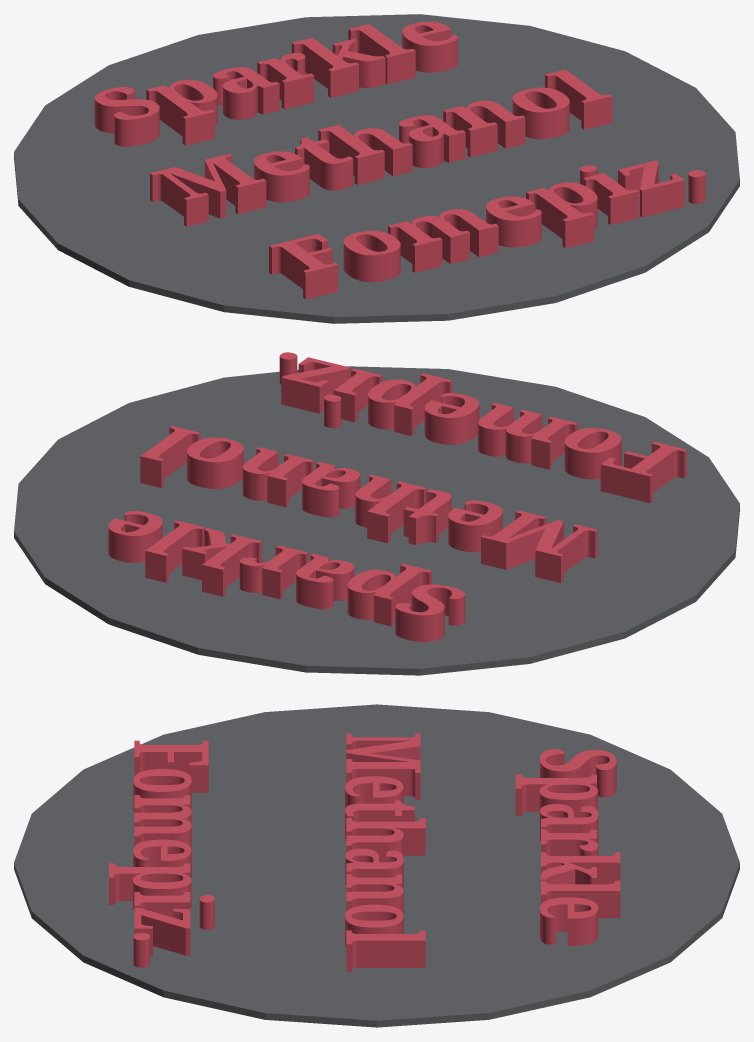
Rendered from atlanta.gltf.
3 views of the same model, one above another, from view 1: azimuth 30°, elevation 25°; view 2: azimuth 150°, elevation 25°; view 3: azimuth 270°, elevation 25° (orthographic).
Parts seen in each view (by area): view 1: Mesh_Mesh_head_geo001_lambert2SG001; view 2: Mesh_Mesh_head_geo001_lambert2SG001; view 3: Mesh_Mesh_head_geo001_lambert2SG001.
Boxes of the visible parts, left/top/right/bottom form: Mesh_Mesh_head_geo001_lambert2SG001: left=14, top=14, right=739, bottom=323; Mesh_Mesh_head_geo001_lambert2SG001: left=14, top=352, right=739, bottom=675; Mesh_Mesh_head_geo001_lambert2SG001: left=14, top=704, right=739, bottom=1027.
Bounding box in the file's own units: 199 × 10 × 193.
